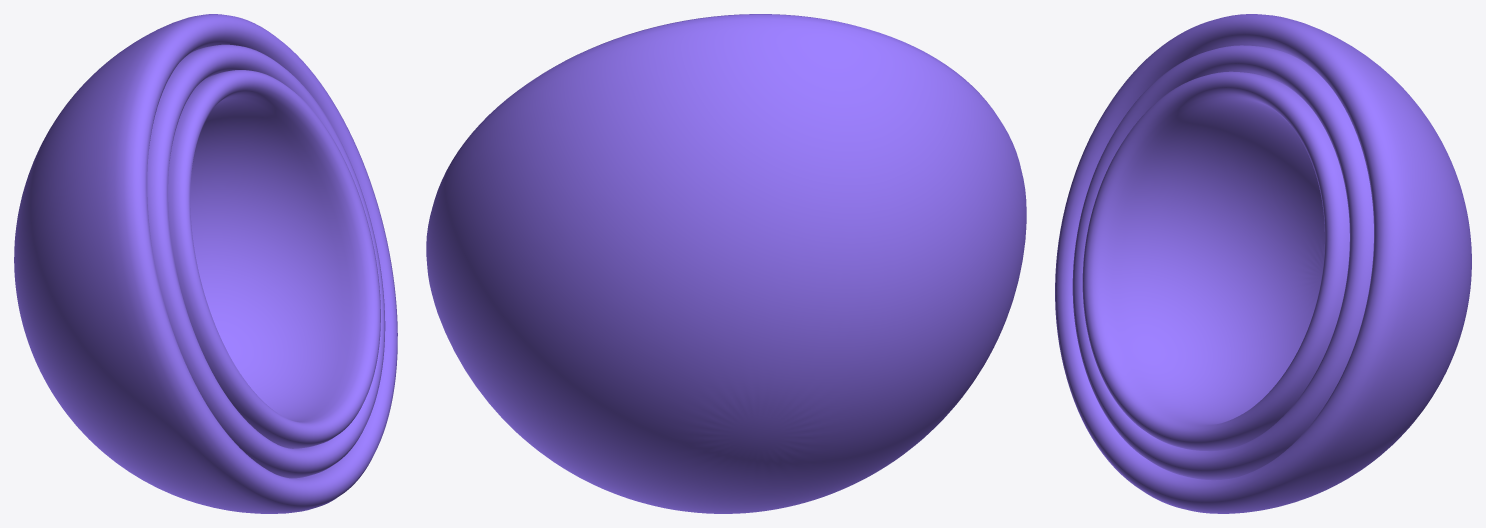
File: spheres-abstract-shape-animated-3d-icon-1668763368472.glb
The picture shows the model from 3 angles, left to right: view 1: azimuth 30°, elevation 25°; view 2: azimuth 150°, elevation 25°; view 3: azimuth 270°, elevation 25°; orthographic projection. The views are drawn at different scales.
Parts seen in each view (by area): view 1: Sphere, Sphere.002, Sphere.001; view 2: Sphere; view 3: Sphere.002, Sphere, Sphere.001.
Boxes of the visible parts, left/top/right/bottom form: Sphere: left=14, top=14, right=397, bottom=513; Sphere.002: left=168, top=70, right=380, bottom=448; Sphere.001: left=147, top=44, right=385, bottom=478; Sphere: left=426, top=14, right=1026, bottom=513; Sphere.002: left=1082, top=71, right=1349, bottom=451; Sphere: left=1055, top=14, right=1471, bottom=513; Sphere.001: left=1072, top=45, right=1373, bottom=480.
Size of the model in its own units: 1.78 by 1.87 by 1.63.
